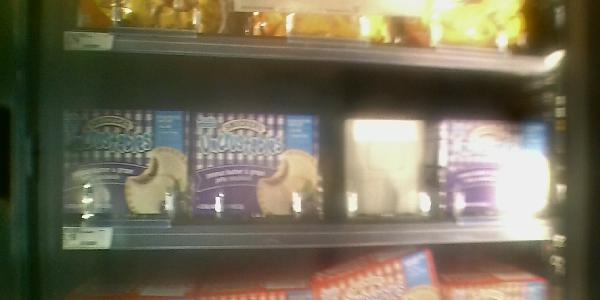icecream: (59, 105, 190, 228), (189, 110, 328, 221), (436, 115, 553, 225)
